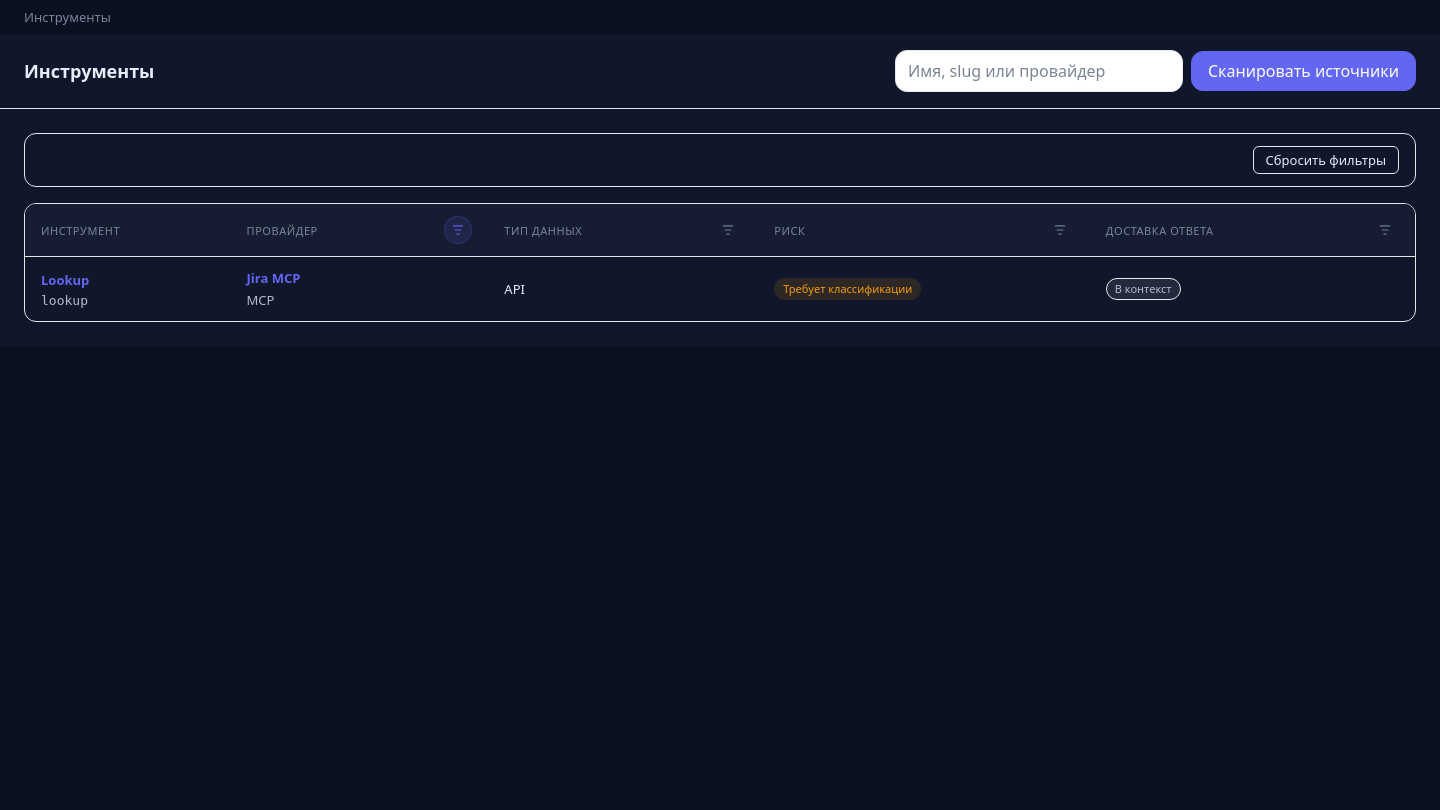
Test case: tools registry › scans only the selected MCP provider and reports a partial failure
The width and height of the screenshot is (1440, 810).
Check: the link "Lookup" is shown, box [41,271,89,289]
Click the button "Сканировать источники" at (1304, 71), box [1191,51,1416,91]
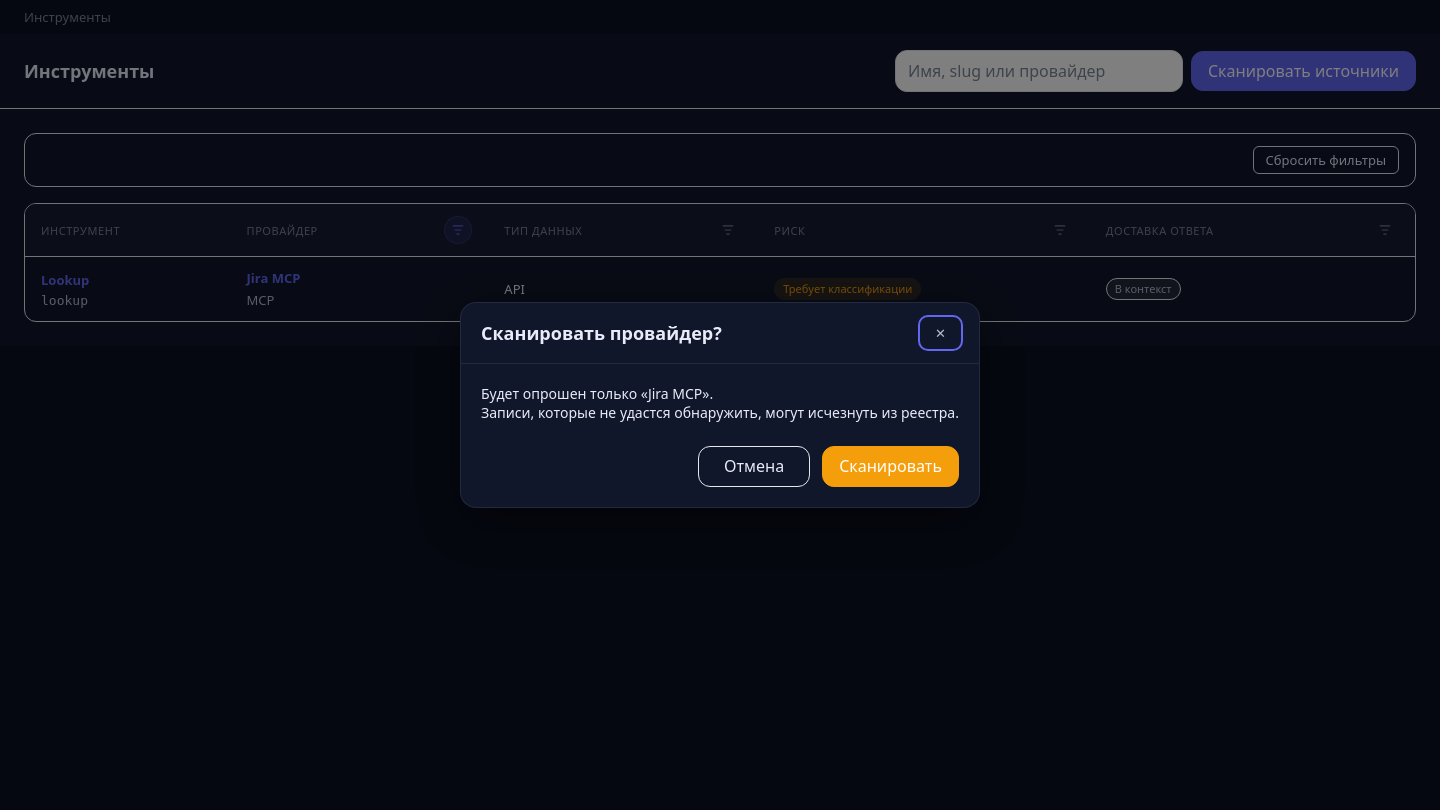
Check: the dialog shows "Будет опрошен только «Jira MCP»", box [481,384,713,403]
Click the button "Сканировать" at (891, 467), box [822,446,959,487]
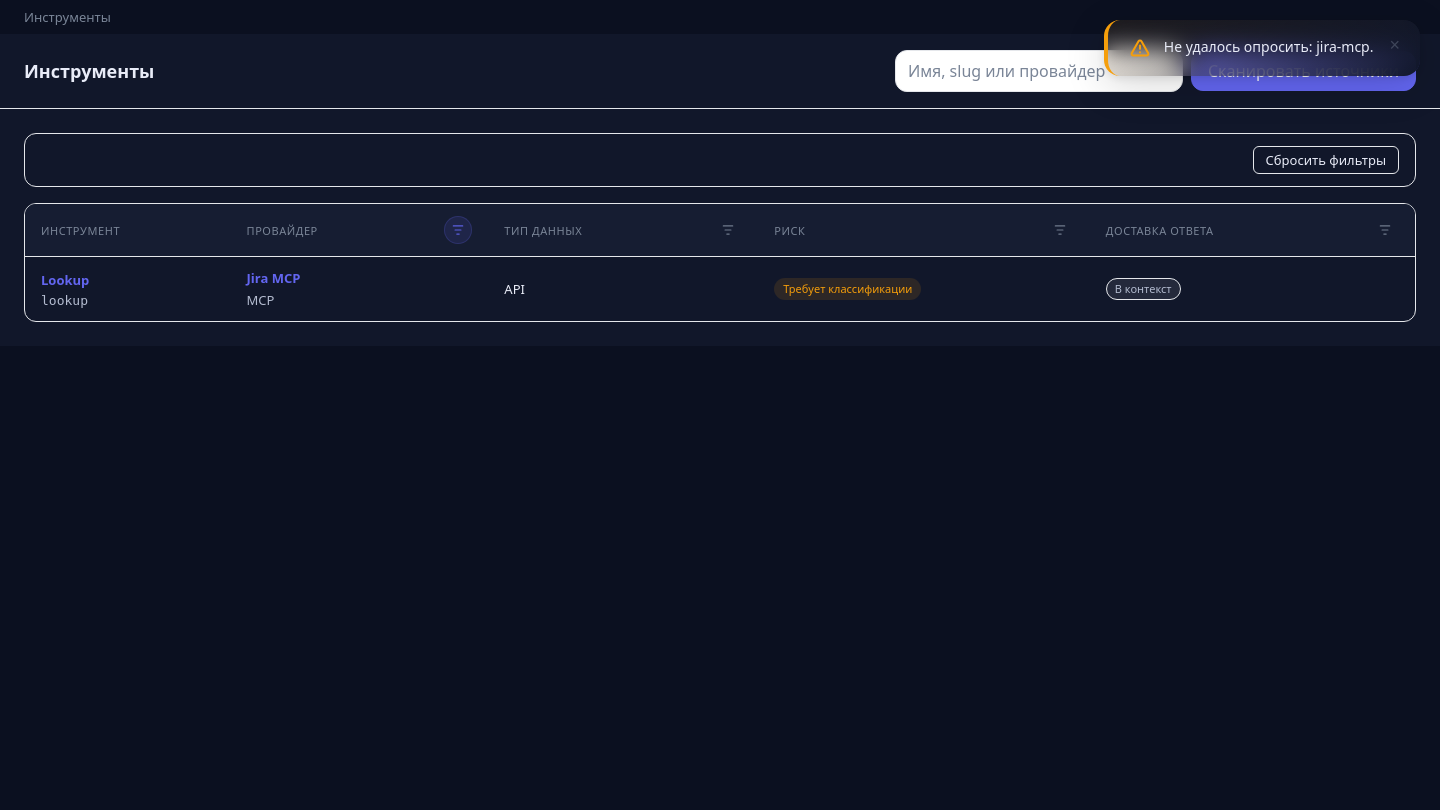
Check: the text "Не удалось опросить: jira-mcp." is shown, box [1164,36,1373,57]
